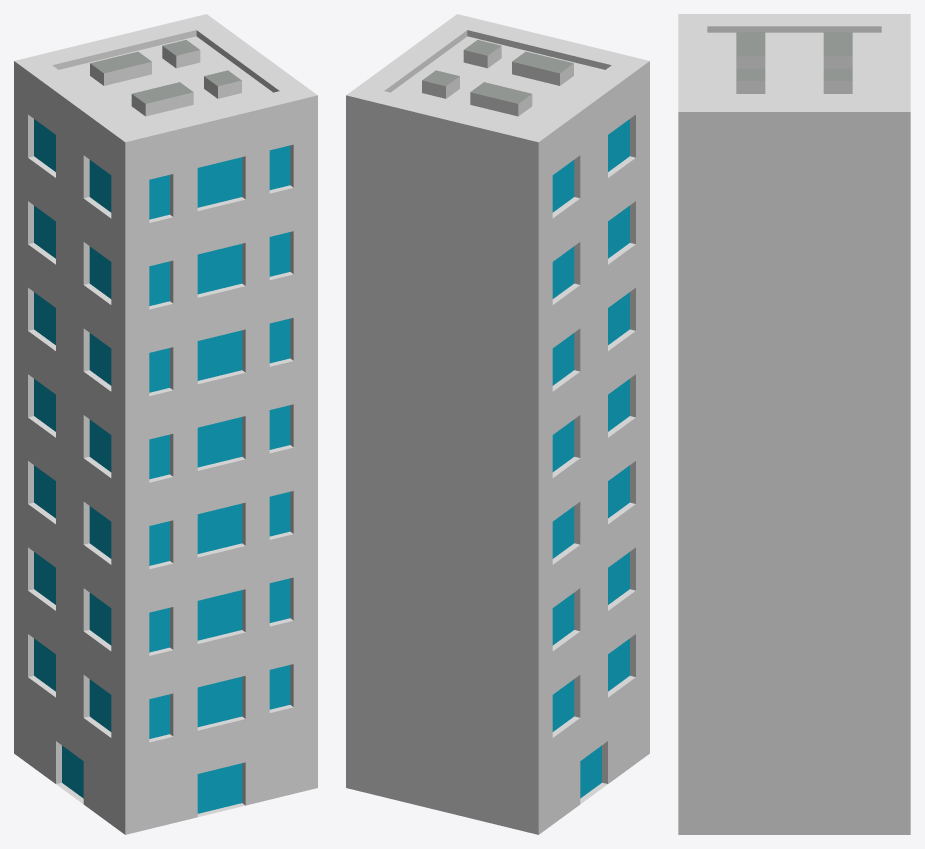
File: wite_high_building.fbx
The picture shows the model from 3 angles, left to right: view 1: azimuth 30°, elevation 25°; view 2: azimuth 150°, elevation 25°; view 3: azimuth 270°, elevation 25°; orthographic projection. The views are drawn at different scales.
Visible parts, largest first — view 1: Cube; view 2: Cube; view 3: Cube.
Boxes of the visible parts, x1=… form: Cube: x1=14, y1=14, x2=317, y2=834; Cube: x1=346, y1=14, x2=649, y2=834; Cube: x1=678, y1=14, x2=910, y2=834.
Bounding box in the file's own units: 1600 × 5550 × 1600.
